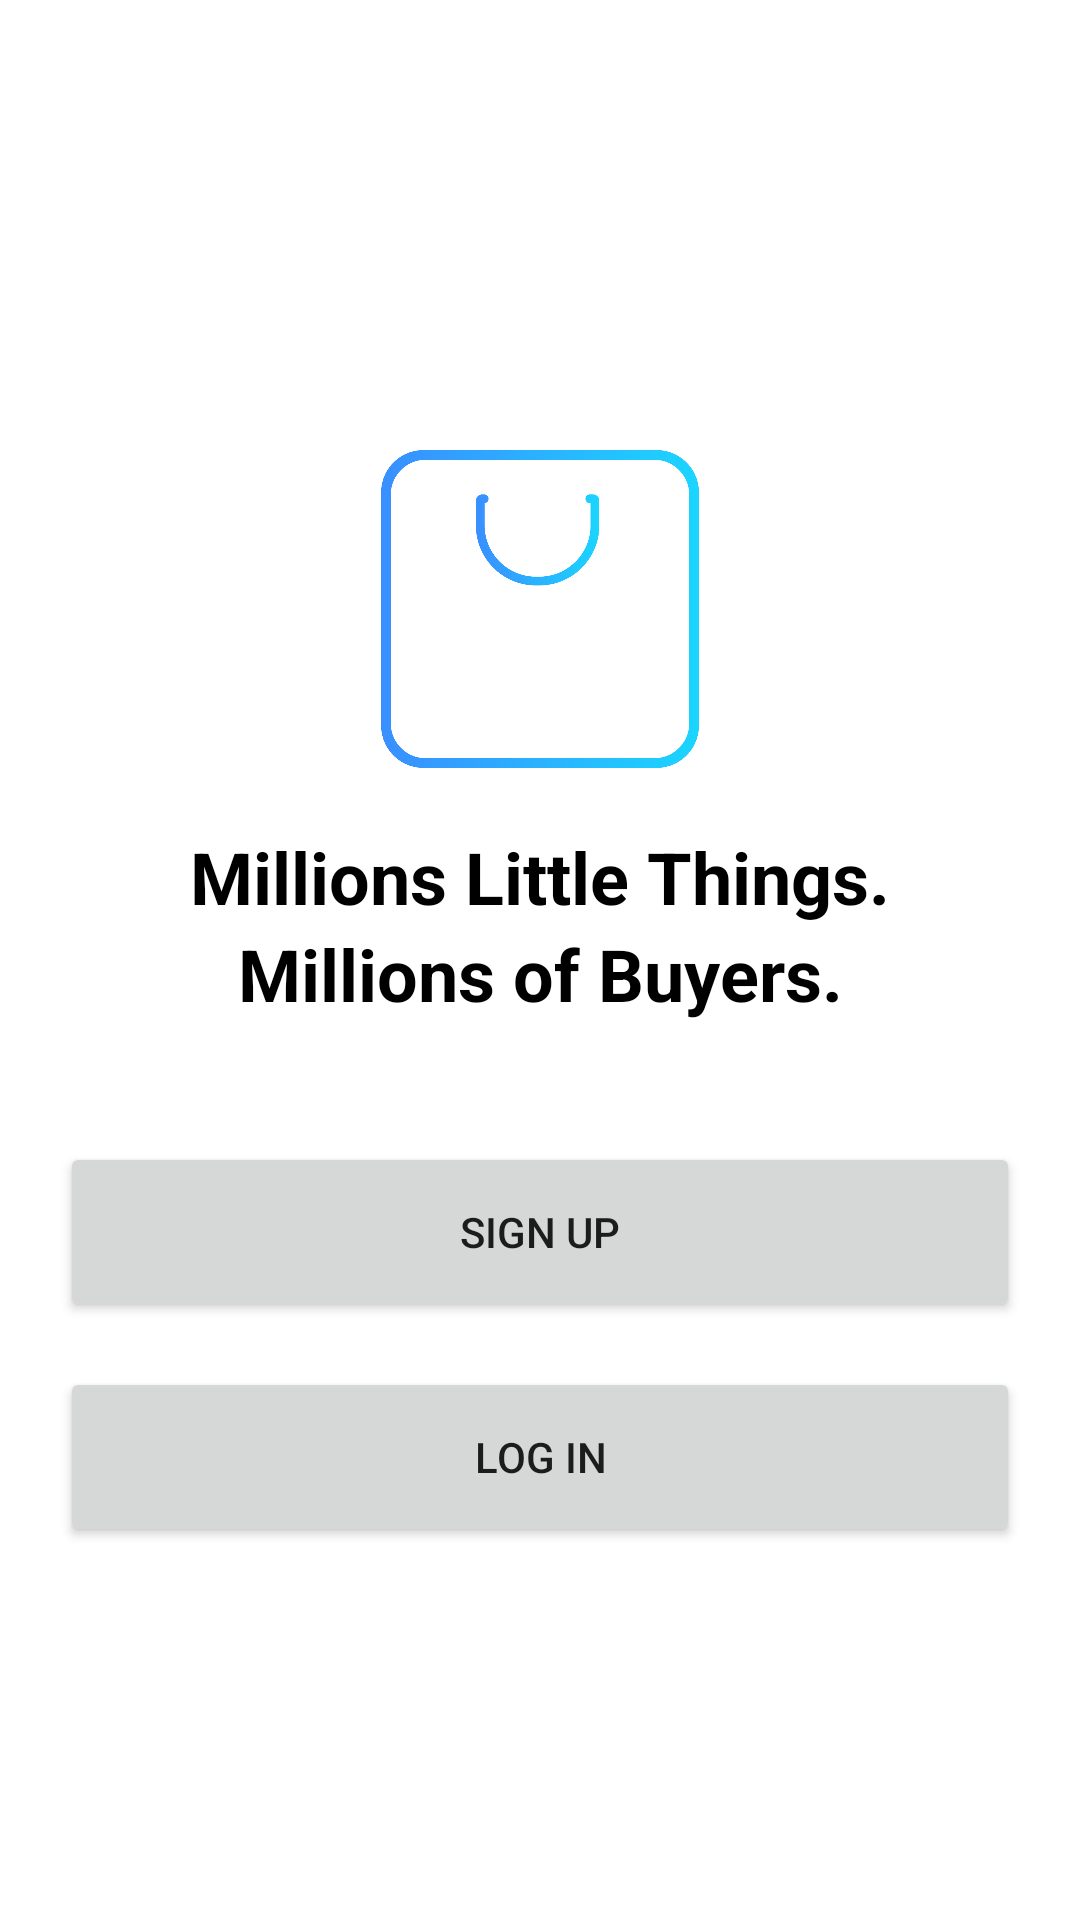

Icon bounding boxes for this 1080w x 1920h phone screenshot, format (x1, y1, x2, y2):
appicon: (381, 450, 699, 768)
